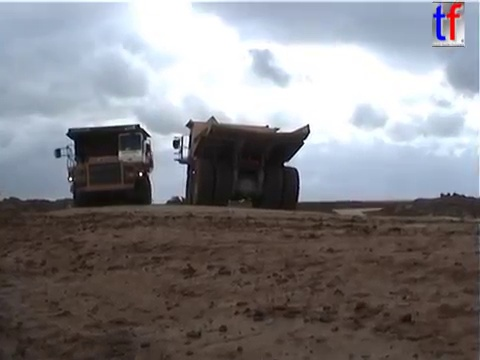excavator: (67, 149, 113, 209)
truck: (170, 114, 313, 212), (52, 121, 157, 209)
